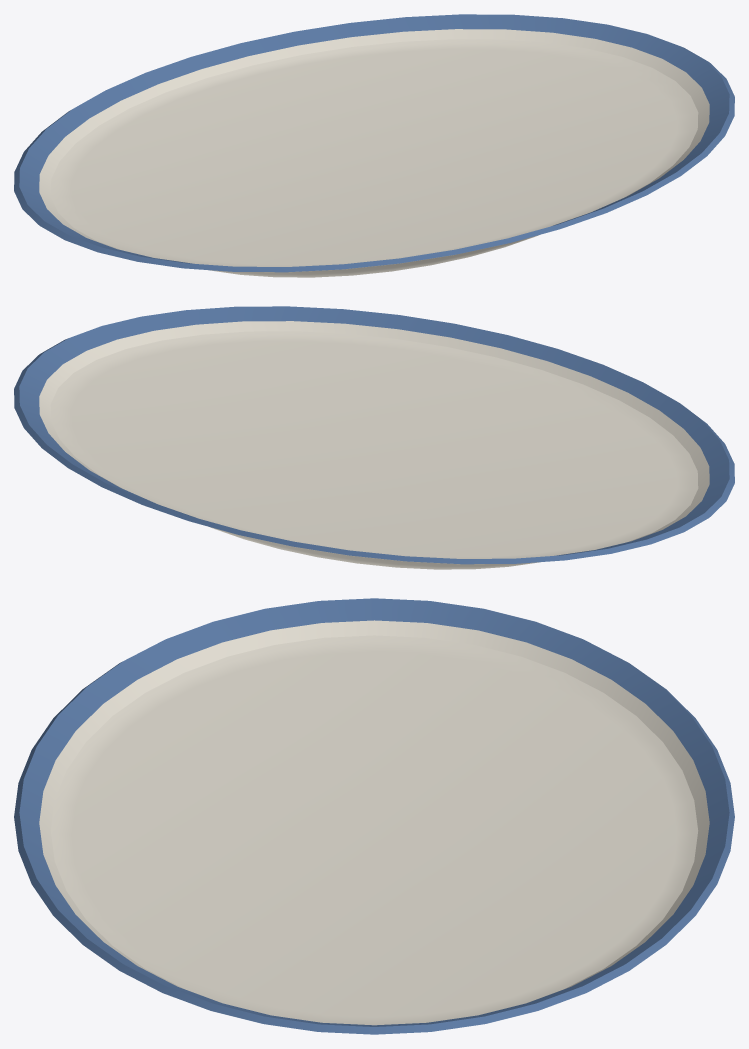
File: serving_plate.glb
3 renders of one model, top to bottom at view 1: azimuth 30°, elevation 25°; view 2: azimuth 150°, elevation 25°; view 3: azimuth 270°, elevation 25°, orthographic. The views are drawn at different scales.
Parts seen in each view (by area): view 1: serving_plate; view 2: serving_plate; view 3: serving_plate.
Part boxes in pixels (bbox=[...]): serving_plate: bbox=[14, 14, 734, 277]; serving_plate: bbox=[14, 306, 734, 569]; serving_plate: bbox=[14, 598, 734, 1034].
Bounding box in the file's own units: 0.32 × 0.0215 × 0.224.
